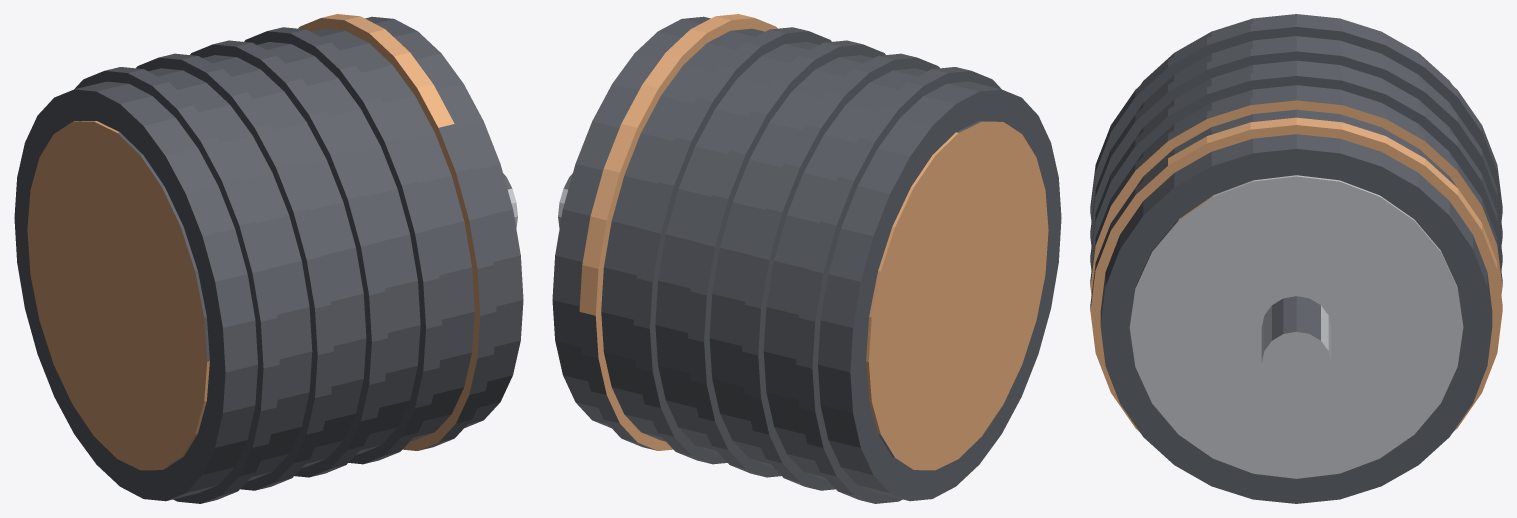
The model's file is edu_motor_assembly.glb.
3 renders of one model, left to right at view 1: azimuth 30°, elevation 25°; view 2: azimuth 150°, elevation 25°; view 3: azimuth 270°, elevation 25°, orthographic. The views are drawn at different scales.
Visible parts, largest first — view 1: EDU_Motor_Assembly; view 2: EDU_Motor_Assembly; view 3: EDU_Motor_Assembly.
Boxes of the visible parts, x1,y1,x2,y2 form: EDU_Motor_Assembly: (14, 14, 523, 503); EDU_Motor_Assembly: (552, 14, 1061, 503); EDU_Motor_Assembly: (1090, 14, 1502, 503).
Size of the model in its own units: 0.282 by 0.284 by 0.284.
